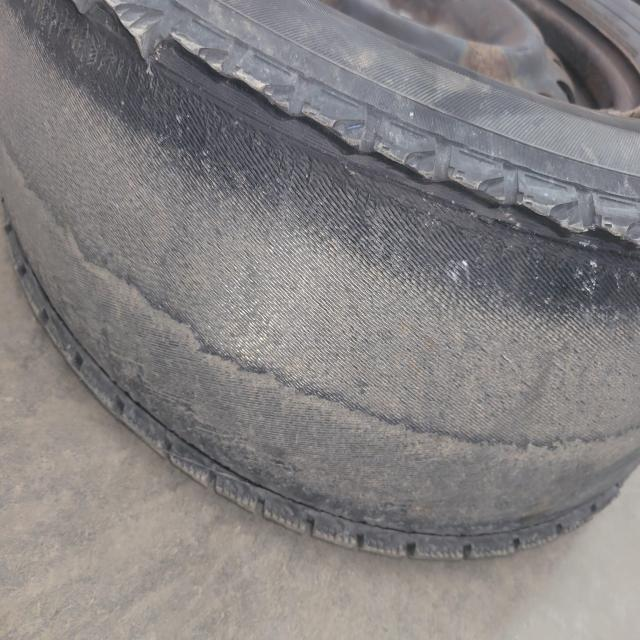Flat spots: (8, 7, 640, 571)
